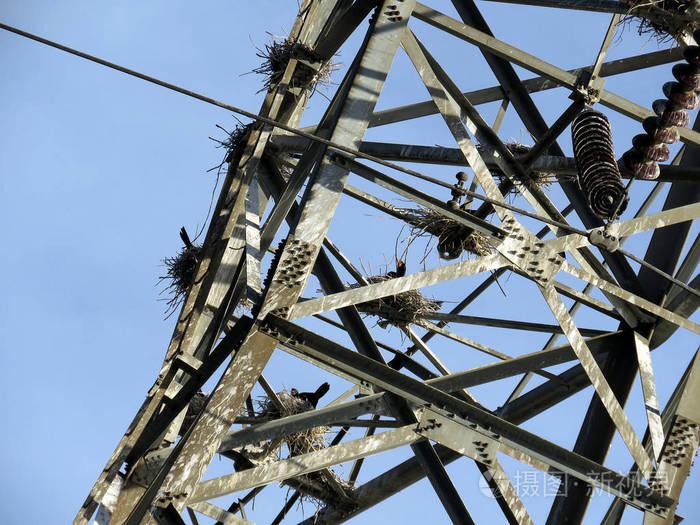insulator: (629, 64, 698, 181), (572, 107, 631, 218)
